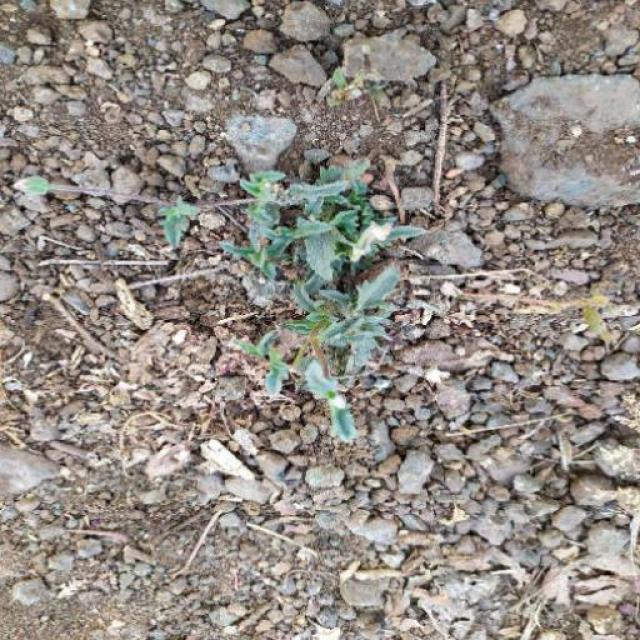weed: (145, 151, 433, 481)
